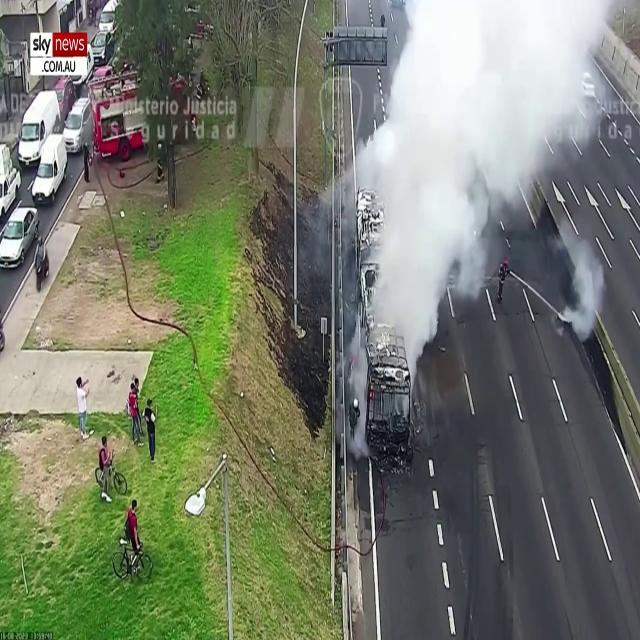Smoke: (357, 0, 613, 359), (562, 215, 609, 350)
